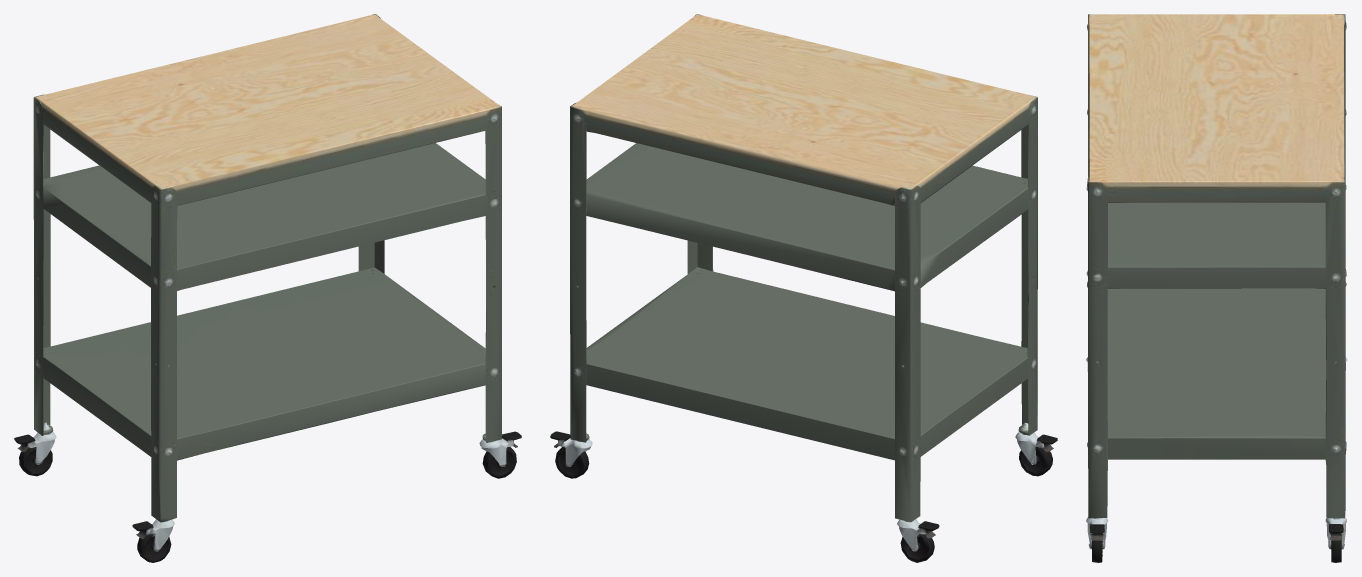
The model's file is 18 - BROR Trolley - grey-greenpine plywood 85x55 cm.glb.
3 views of the same model, side by side, from view 1: azimuth 30°, elevation 25°; view 2: azimuth 150°, elevation 25°; view 3: azimuth 270°, elevation 25° (orthographic).
Parts seen in each view (by area): view 1: ProcessedMeshNode; view 2: ProcessedMeshNode; view 3: ProcessedMeshNode.
Part boxes in pixels (x1,y1,x2,y2): ProcessedMeshNode: (14, 14, 521, 562); ProcessedMeshNode: (550, 14, 1057, 562); ProcessedMeshNode: (1086, 14, 1347, 562).
Size of the model in its own units: 0.9535 by 0.8858 by 0.5537.
Materials: 1 (1 with a texture image).
